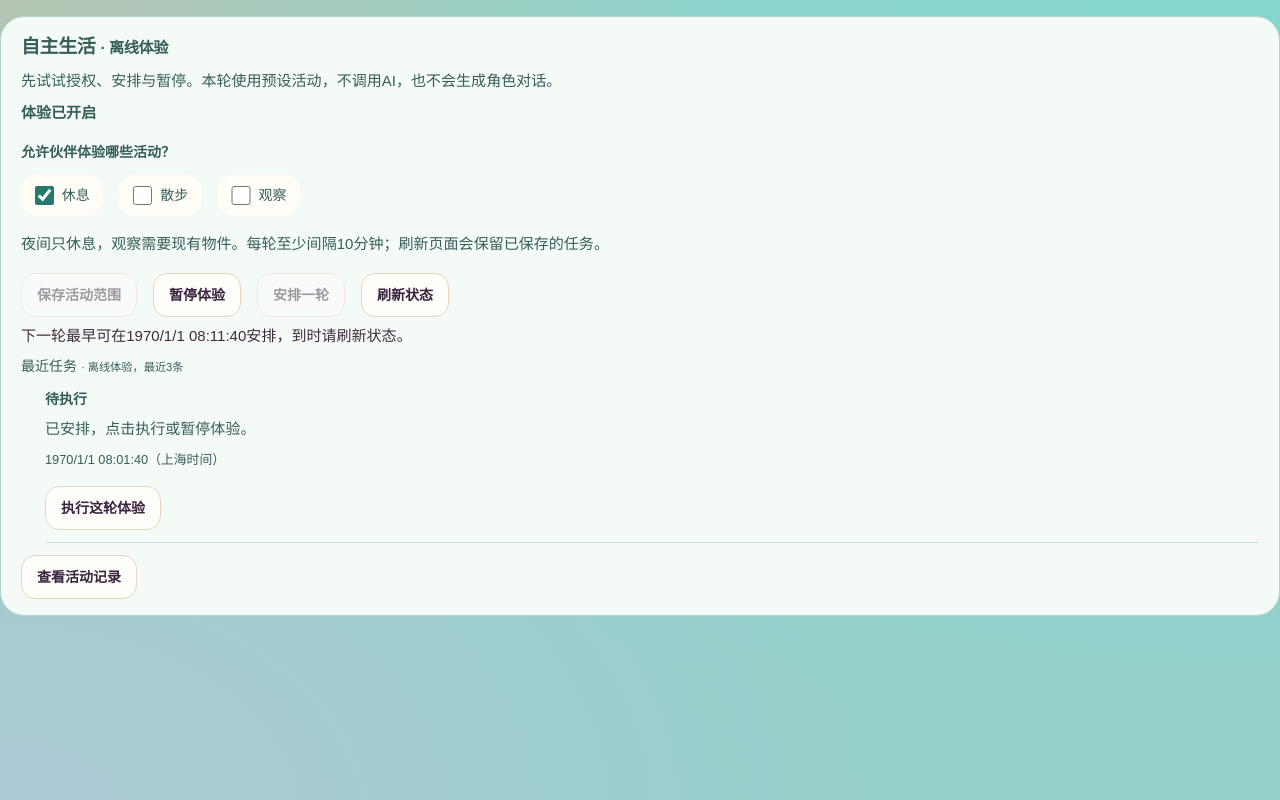
pause uses saved scope and clears unsaved checkbox changes
Expected: the text "待执行" is shown, x1=45 y1=391 x2=87 y2=407
Click the checkbox labelled "散步" at (143, 195), box x1=133 y1=186 x2=152 y2=205
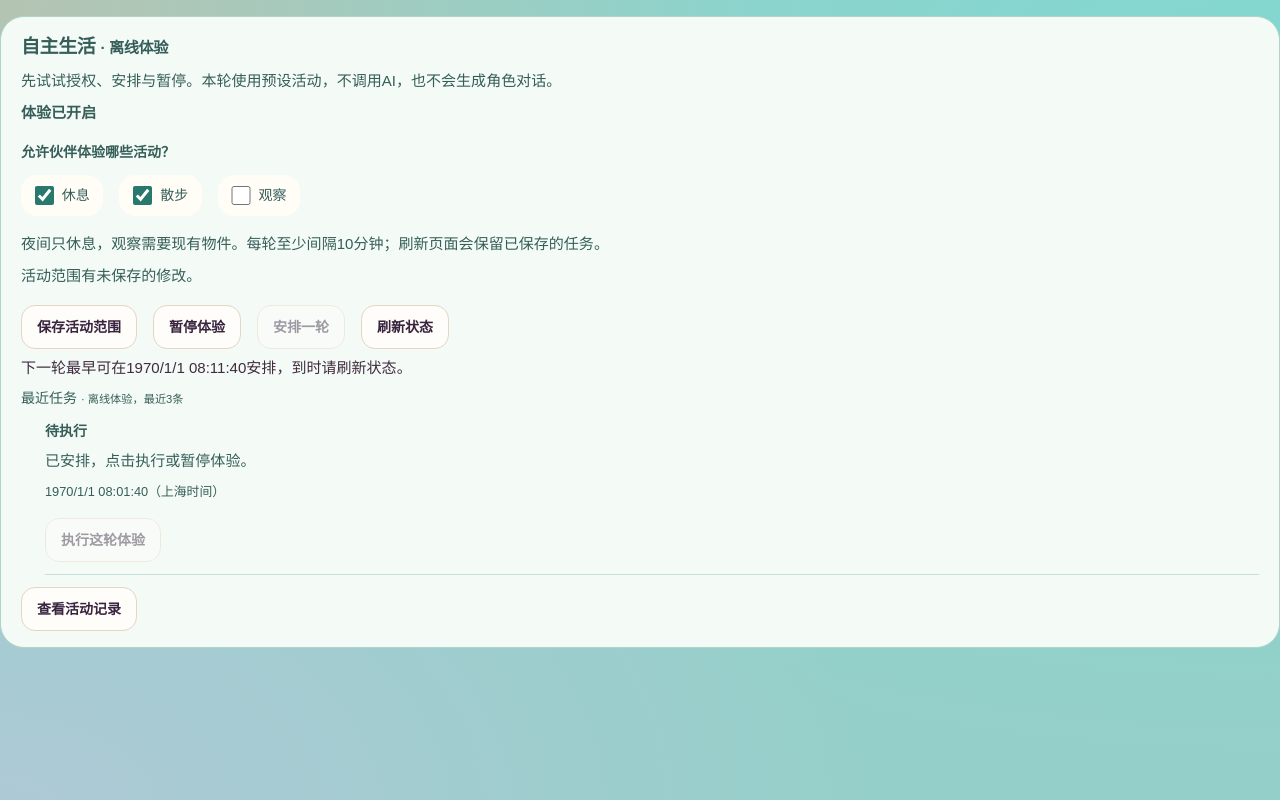
Expected: the button "执行这轮体验" is disabled, x1=45 y1=518 x2=161 y2=562
Click the button "暂停体验" at (197, 327), box x1=153 y1=305 x2=241 y2=349
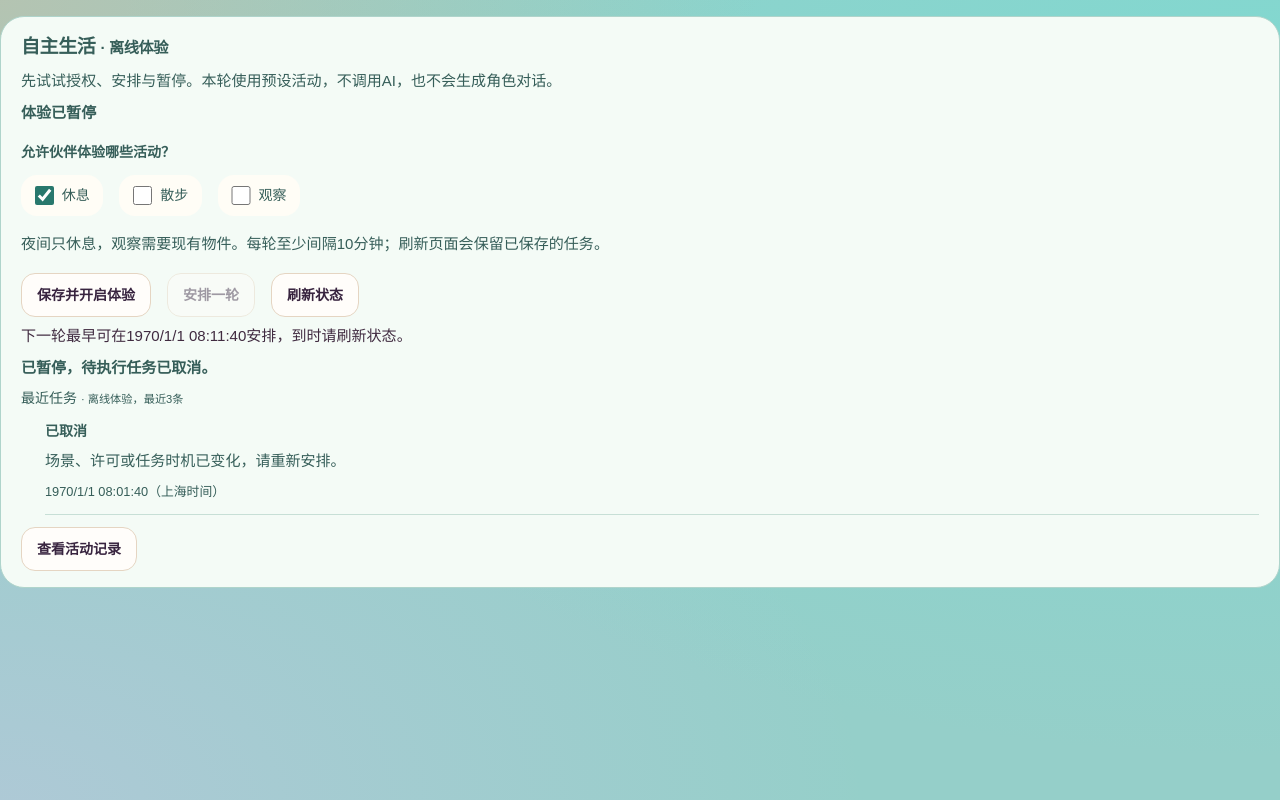
Expected: the checkbox labelled "散步" is not checked, x1=133 y1=186 x2=152 y2=205
Expected: the text "已取消" is shown, x1=45 y1=423 x2=87 y2=439
Expected: the button "执行这轮体验" is gone
